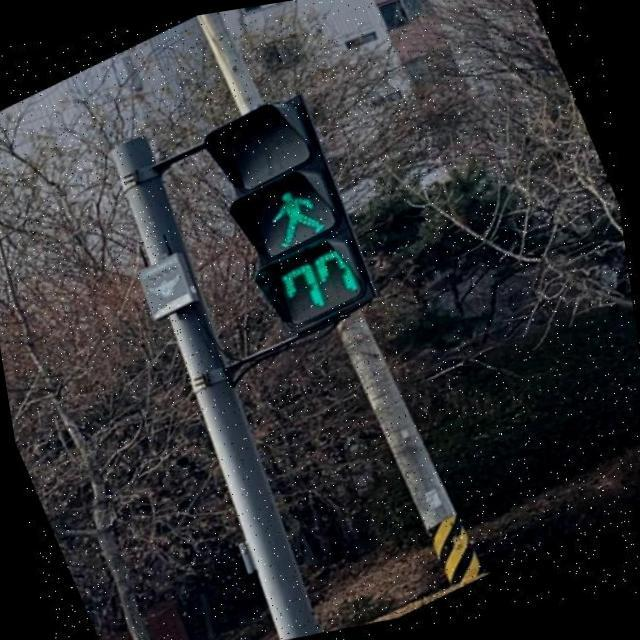greenlight: (208, 90, 351, 260)
